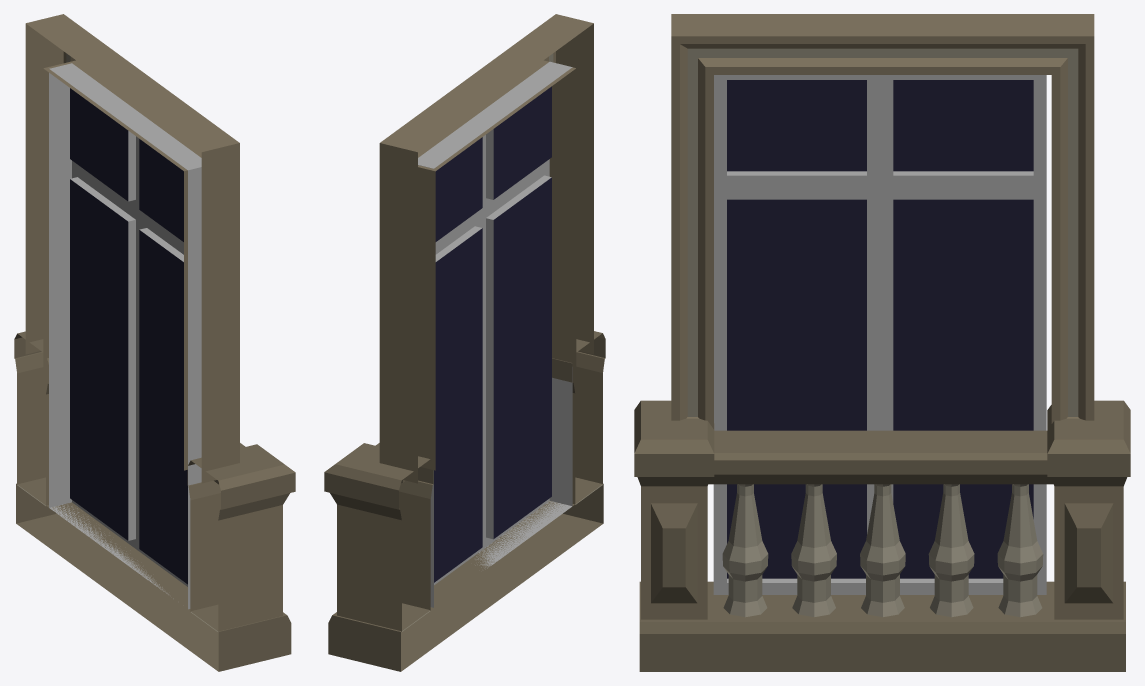
Rendered from Window_1.fbx.
3 views of the same model, side by side, from view 1: azimuth 30°, elevation 25°; view 2: azimuth 150°, elevation 25°; view 3: azimuth 270°, elevation 25° (orthographic). The views are drawn at different scales.
Parts seen in each view (by area): view 1: Window_1; view 2: Window_1; view 3: Window_1.
Part boxes in pixels (bbox=[...]): Window_1: bbox=[14, 14, 295, 671]; Window_1: bbox=[324, 14, 605, 671]; Window_1: bbox=[634, 14, 1130, 671].
Size of the model in its own units: 20.6 by 128 by 93.9.
